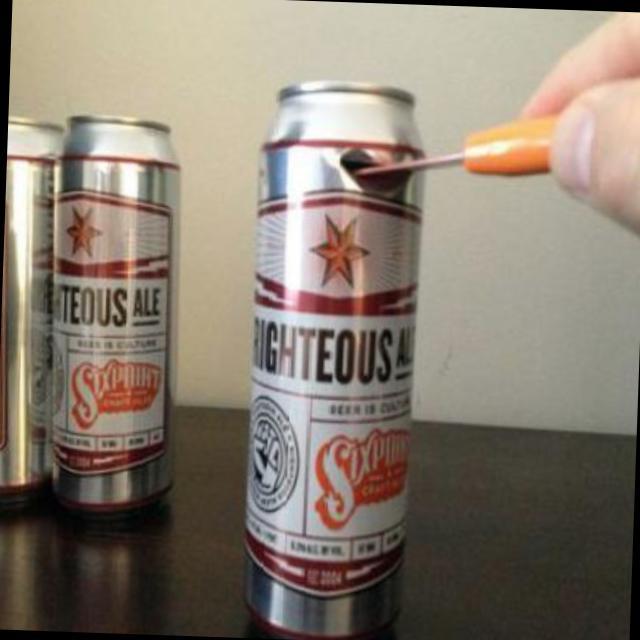metal: (242, 78, 418, 640), (52, 113, 177, 519), (0, 116, 61, 502)
